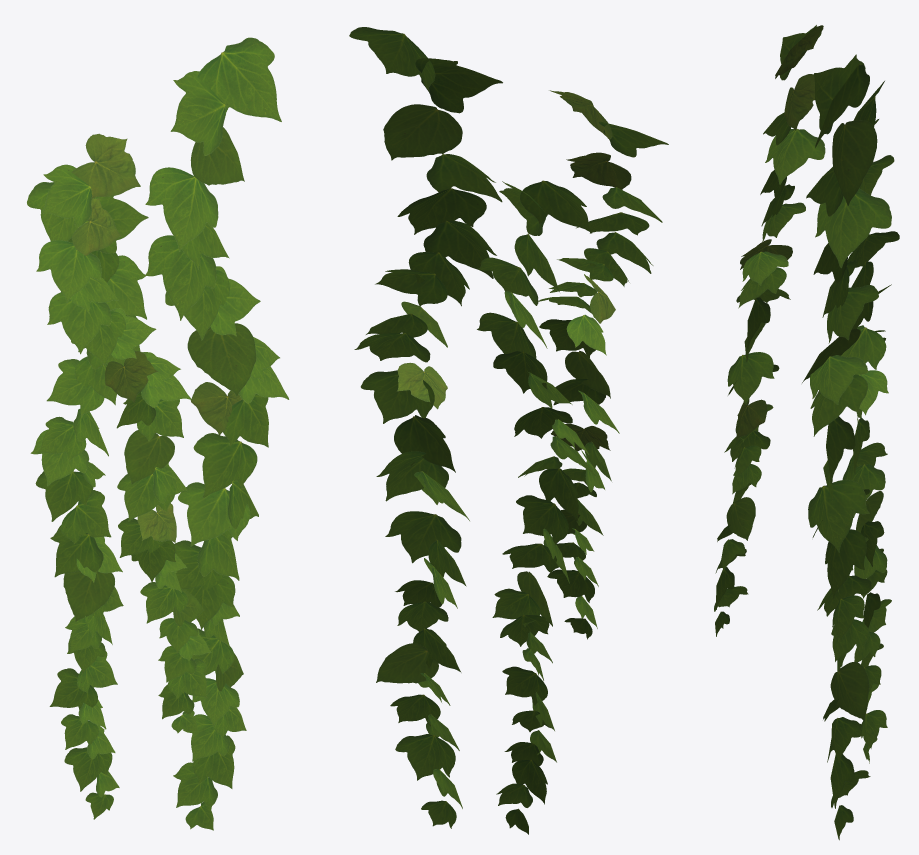
The model's file is SM_Ivy_01.fbx.
3 renders of one model, left to right at view 1: azimuth 30°, elevation 25°; view 2: azimuth 150°, elevation 25°; view 3: azimuth 270°, elevation 25°, orthographic. The views are drawn at different scales.
Parts seen in each view (by area): view 1: SM_Ivy_01_LOD0; view 2: SM_Ivy_01_LOD0; view 3: SM_Ivy_01_LOD0.
Boxes of the visible parts, box(x1,y1,x2,y2) form: SM_Ivy_01_LOD0: box(27, 37, 289, 830); SM_Ivy_01_LOD0: box(349, 27, 668, 834); SM_Ivy_01_LOD0: box(714, 25, 899, 840).
Size of the model in its own units: 66.87 by 36.69 by 167.
1 material, 1 textured.
